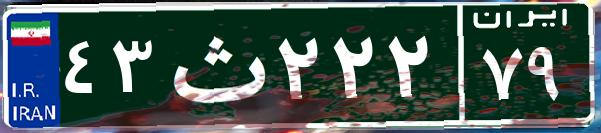2: (385, 28, 445, 110), (273, 28, 330, 110), (330, 28, 385, 110)
3: (110, 28, 158, 105)
4: (57, 26, 110, 107)
7: (475, 38, 525, 113)
9: (525, 38, 570, 115)
ث: (158, 15, 273, 115)
